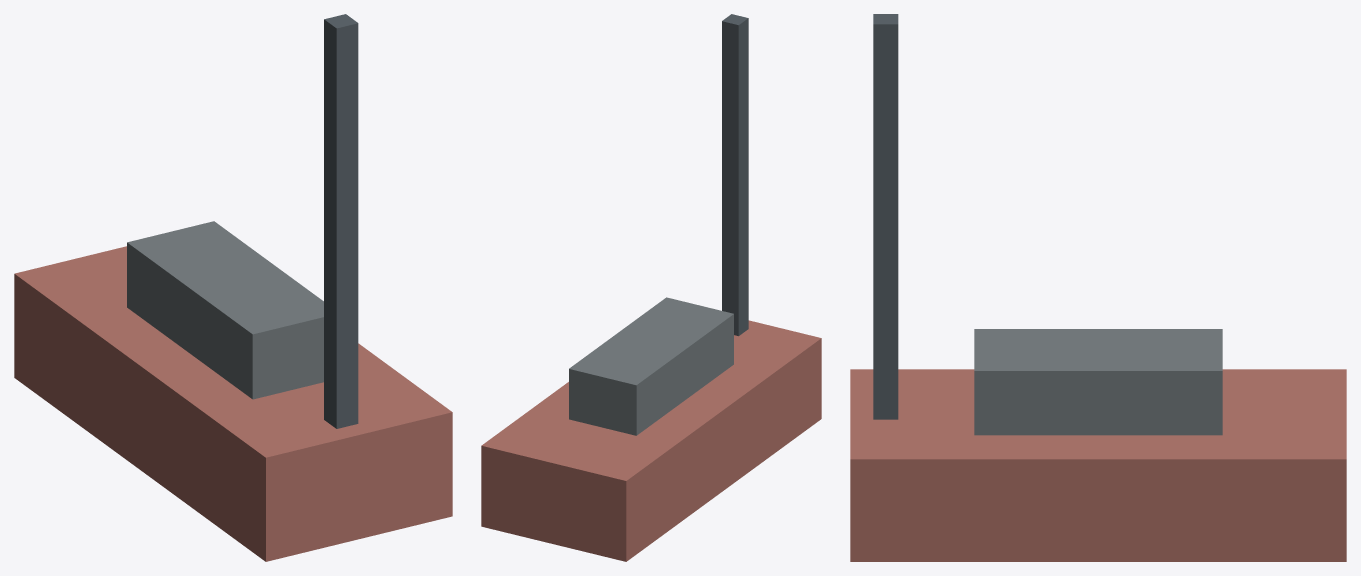
Rendered from floor_jack.glb.
3 renders of one model, left to right at view 1: azimuth 30°, elevation 25°; view 2: azimuth 150°, elevation 25°; view 3: azimuth 270°, elevation 25°, orthographic. The views are drawn at different scales.
Parts seen in each view (by area): view 1: body; view 2: body; view 3: body.
Boxes of the visible parts, bbox=[...] form: body: bbox=[14, 14, 452, 561]; body: bbox=[481, 14, 821, 561]; body: bbox=[850, 14, 1346, 561].
Size of the model in its own units: 0.3 by 0.775 by 0.7.
